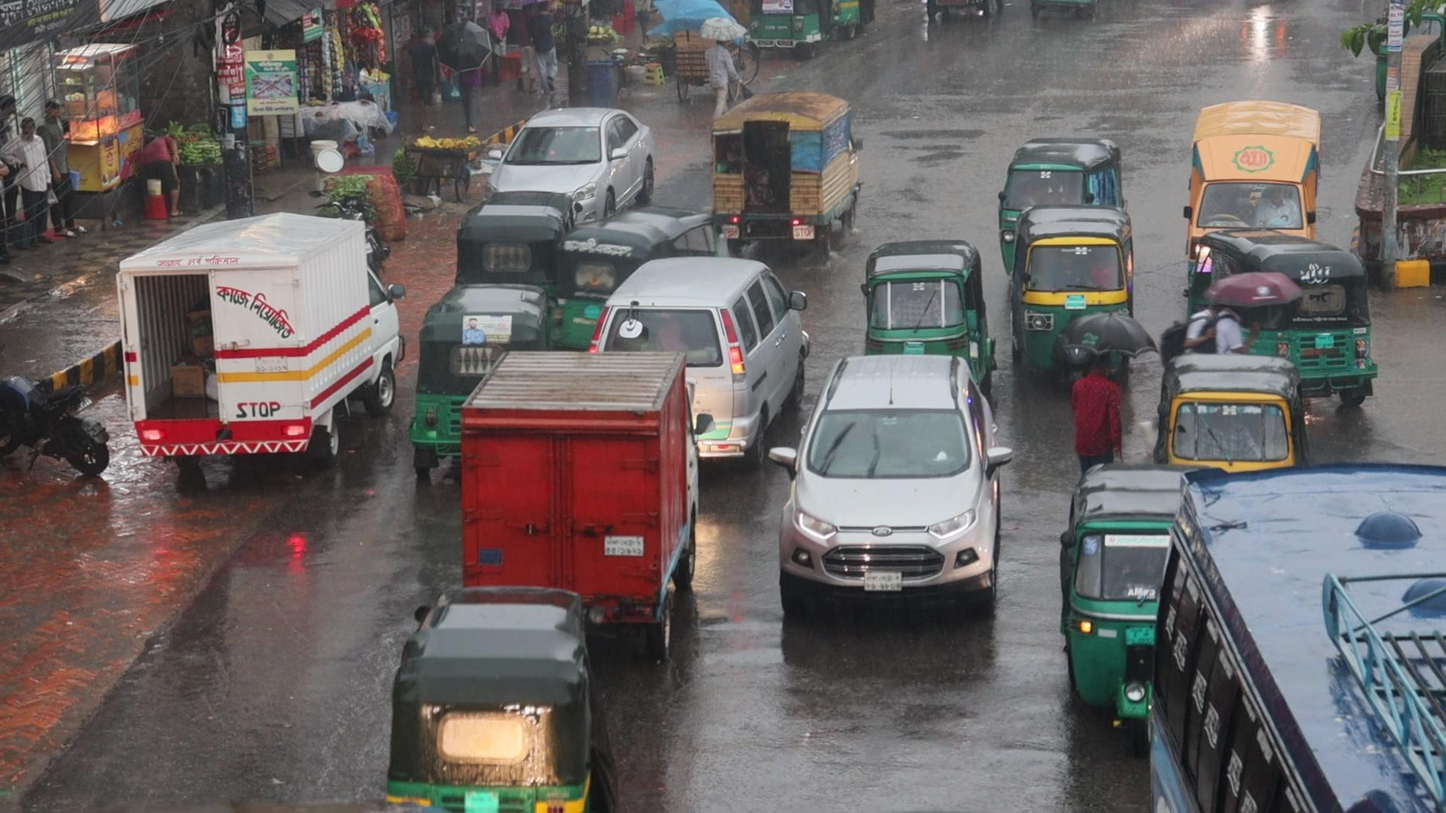Car: (766, 348, 1014, 620)
Truck: (454, 340, 702, 595), (703, 82, 863, 238), (1189, 98, 1325, 239)
